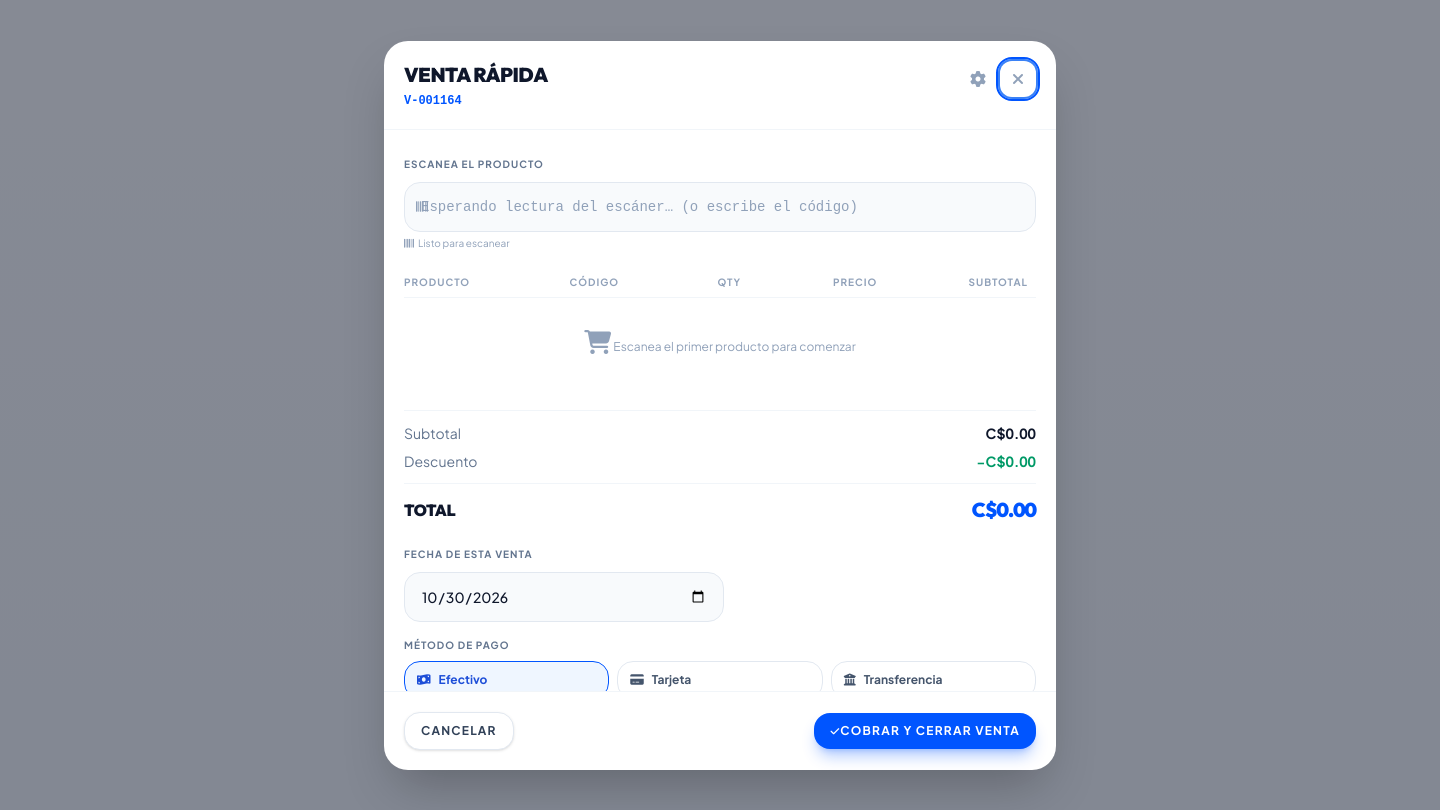
Test case: CompanyQuickSaleModalComponent › debe agregar por código y acumular la misma línea al escanear de nuevo
The image size is (1440, 810).
In the field labelled "Escanea el producto": (720, 206) [404, 182, 1036, 232], type "SKU-1"
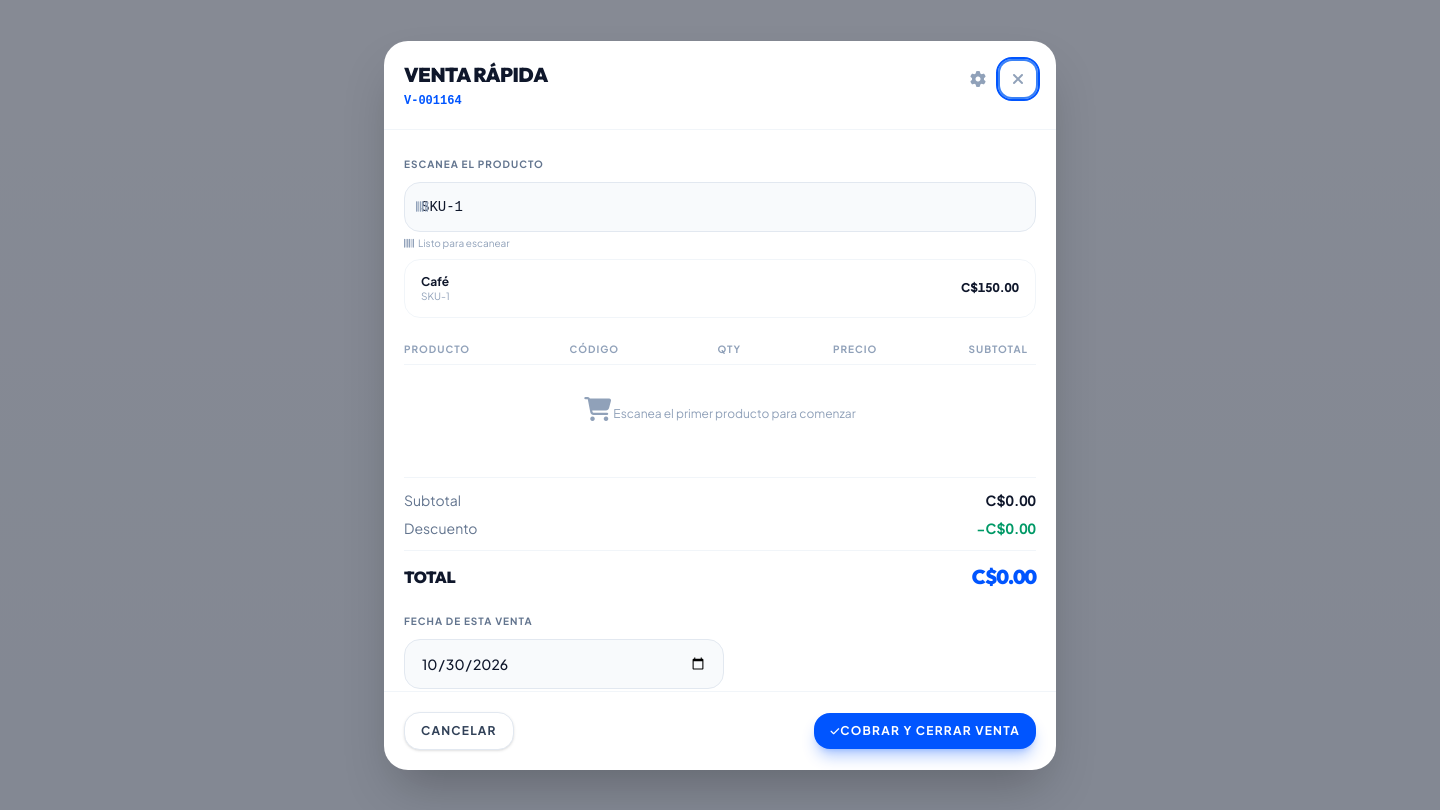
Press Enter in the field labelled "Escanea el producto", box [404, 182, 1036, 232]
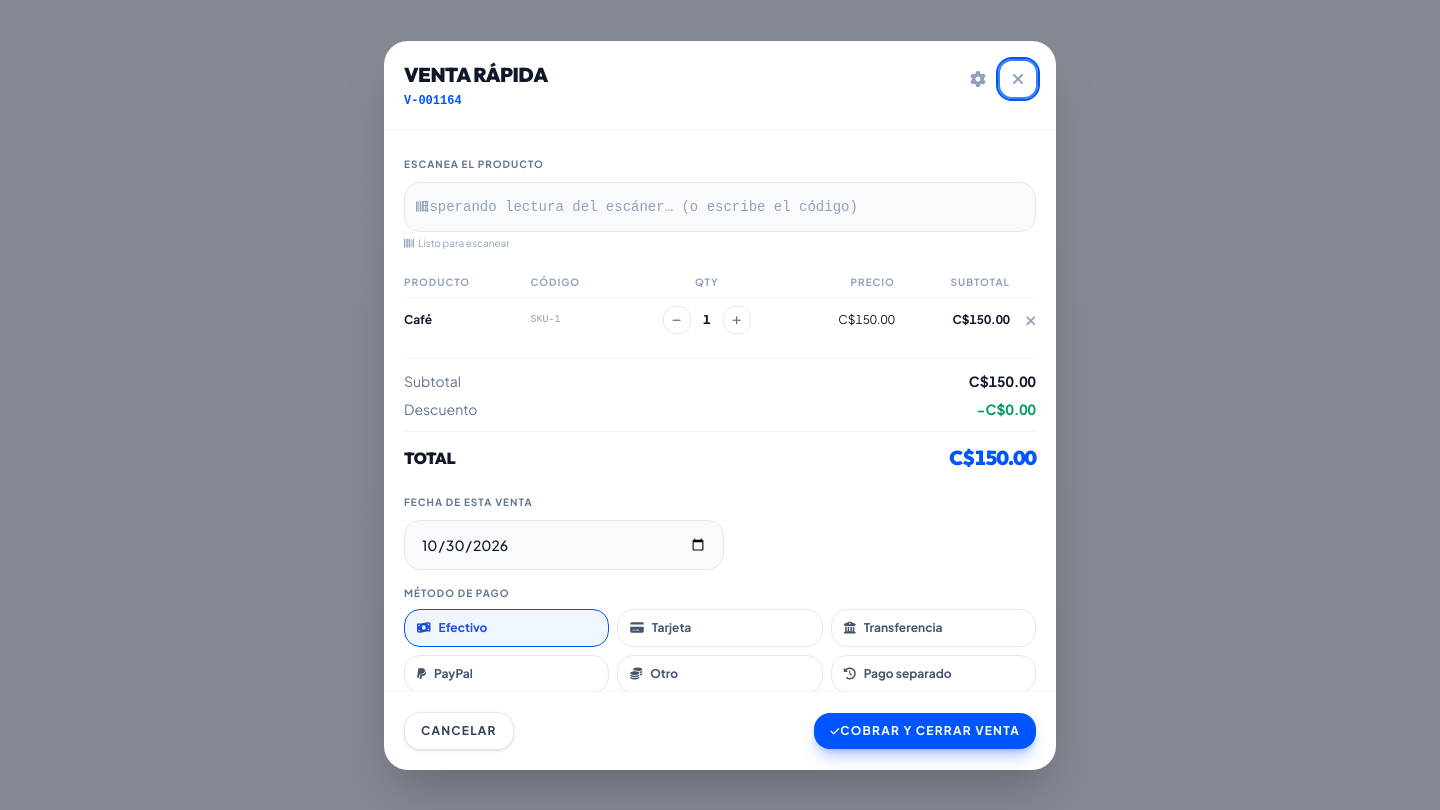
Now the text "Café" is shown, box [404, 297, 530, 342]
In the field labelled "Escanea el producto": (720, 206) [404, 182, 1036, 232], type "sku-1"
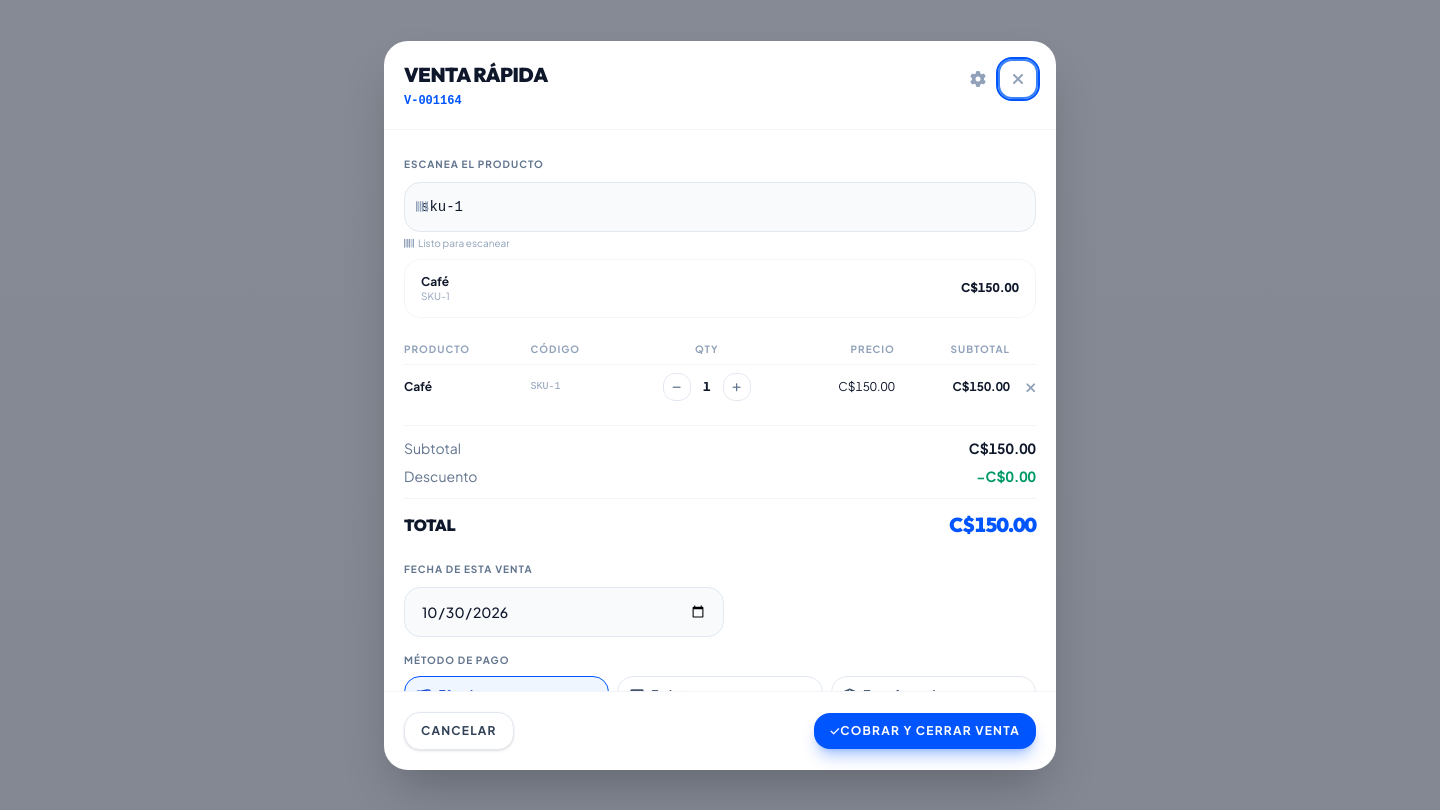
Press Enter in the field labelled "Escanea el producto", box [404, 182, 1036, 232]
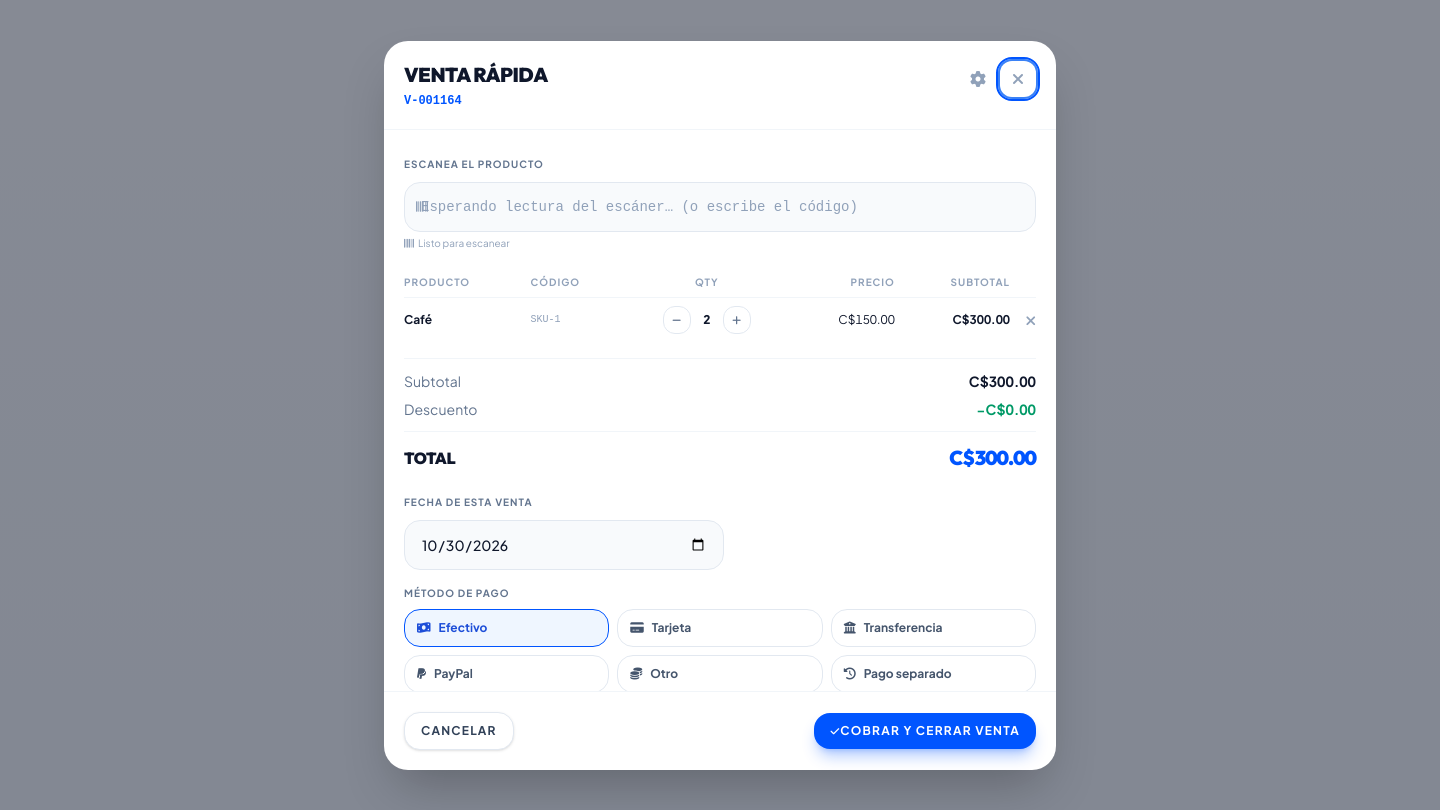
Now the number of rows with test id "quick-sale-line" is 1, box [404, 297, 1036, 342]
Now the text "2" is shown, box [703, 312, 710, 327]
